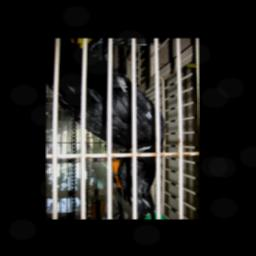Crow: (47, 38, 165, 216)
